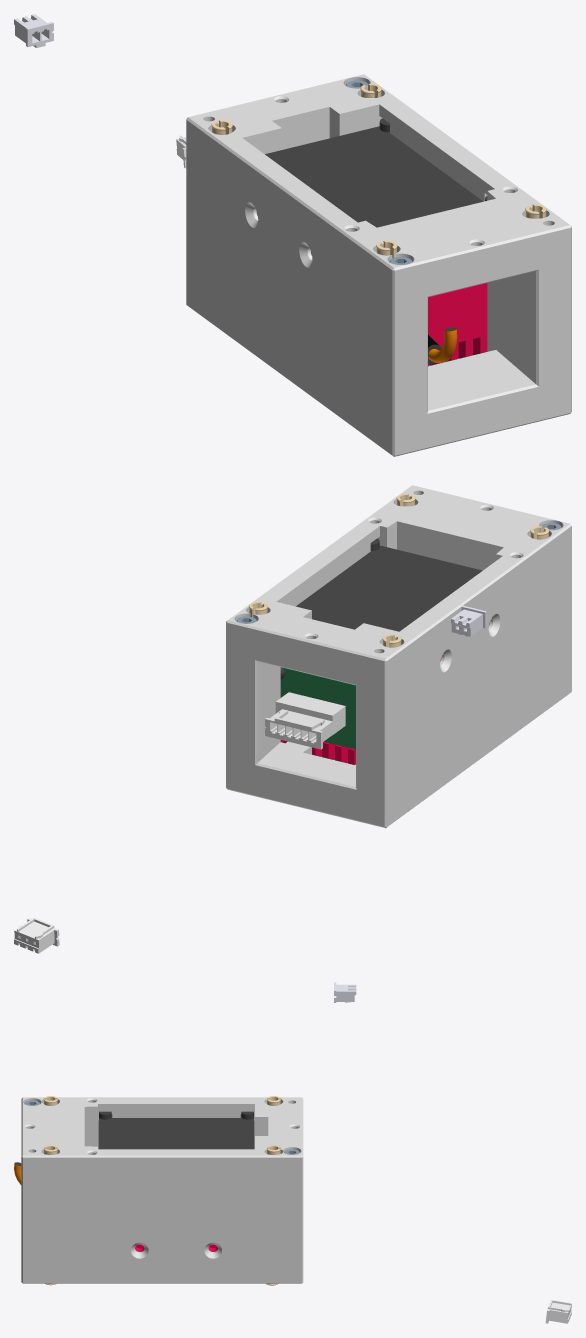
The model's file is ASS_-_4005_-_LAS+CAS.glb.
The picture shows the model from 3 angles, top to bottom: view 1: azimuth 30°, elevation 25°; view 2: azimuth 150°, elevation 25°; view 3: azimuth 270°, elevation 25°; orthographic projection. The views are drawn at different scales.
Parts seen in each view (by area): view 1: PRT - 3010 - CASHLFLAS:2, PRT - 3010 - CASHLFLAS:1, Laser:1, BUY - JST-XH-4 2.5mm 2pin female connector:1; view 2: PRT - 3010 - CASHLFLAS:2, PRT - 3010 - CASHLFLAS:1, Laser:1, =>[0:1:1:6], BUY - JST - XH 3pin female connector:1, BUY - JST-XH-4 2.5mm 2pin female connector:1; view 3: PRT - 3010 - CASHLFLAS:2, PRT - 3010 - CASHLFLAS:1, Laser:1, BUY - JST - XH 3pin female connector:1.
Boxes of the visible parts, box(x1,y1,x2,y2) form: PRT - 3010 - CASHLFLAS:2: box(186, 74, 571, 363); PRT - 3010 - CASHLFLAS:1: box(186, 212, 571, 456); Laser:1: box(256, 118, 487, 366); BUY - JST-XH-4 2.5mm 2pin female connector:1: box(14, 14, 53, 47); PRT - 3010 - CASHLFLAS:2: box(226, 485, 571, 744); PRT - 3010 - CASHLFLAS:1: box(226, 609, 571, 828); Laser:1: box(275, 538, 489, 764); =>[0:1:1:6]: box(265, 709, 332, 749); BUY - JST - XH 3pin female connector:1: box(14, 917, 59, 953); BUY - JST-XH-4 2.5mm 2pin female connector:1: box(451, 605, 486, 636); PRT - 3010 - CASHLFLAS:2: box(21, 1097, 303, 1220); PRT - 3010 - CASHLFLAS:1: box(21, 1220, 303, 1283); Laser:1: box(14, 1111, 254, 1251); BUY - JST - XH 3pin female connector:1: box(545, 1300, 571, 1323).
Size of the model in its own units: 98.23 by 88.22 by 198.
